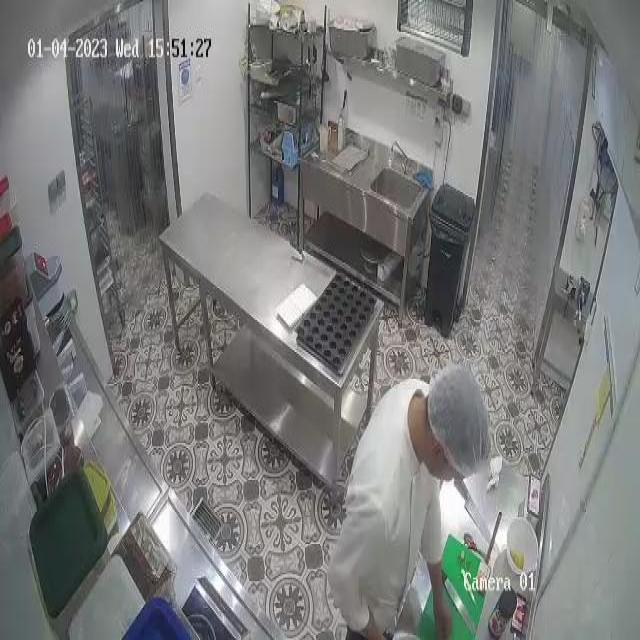hairnet: (433, 370, 496, 466)
